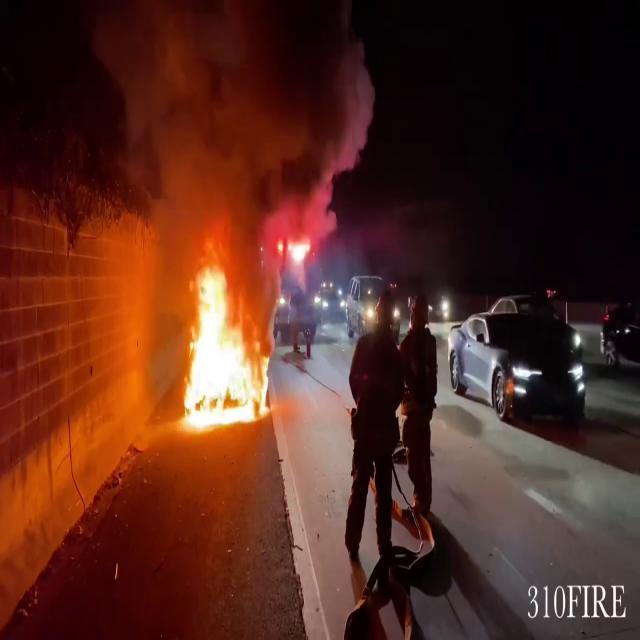Fire: (171, 255, 271, 431)
Smoke: (100, 1, 380, 266)
